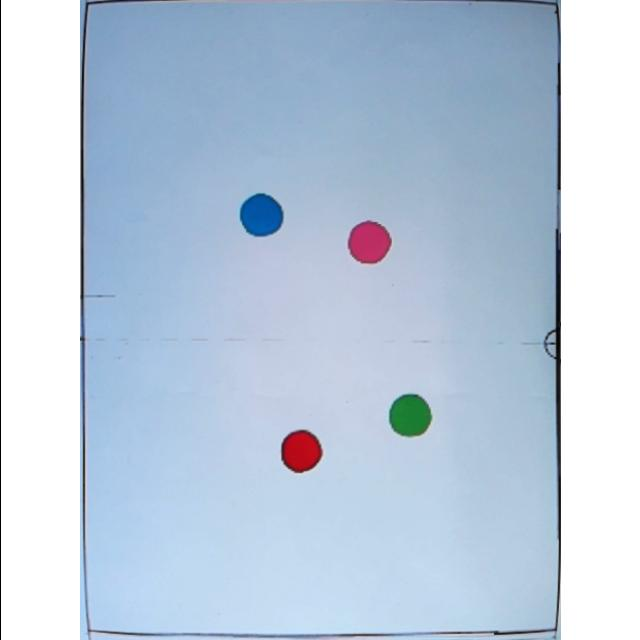blueCircle: (238, 193, 284, 237)
greenCircle: (388, 392, 432, 436)
pinkCircle: (348, 218, 394, 266)
redCircle: (281, 429, 325, 475)
